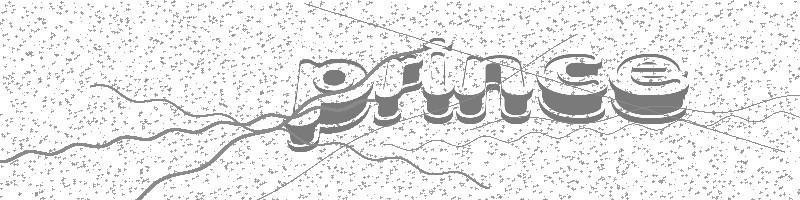c: (538, 53, 608, 123)
e: (610, 54, 689, 123)
i: (424, 38, 454, 123)
n: (457, 55, 535, 124)
p: (289, 59, 371, 152)
r: (374, 55, 424, 126)
